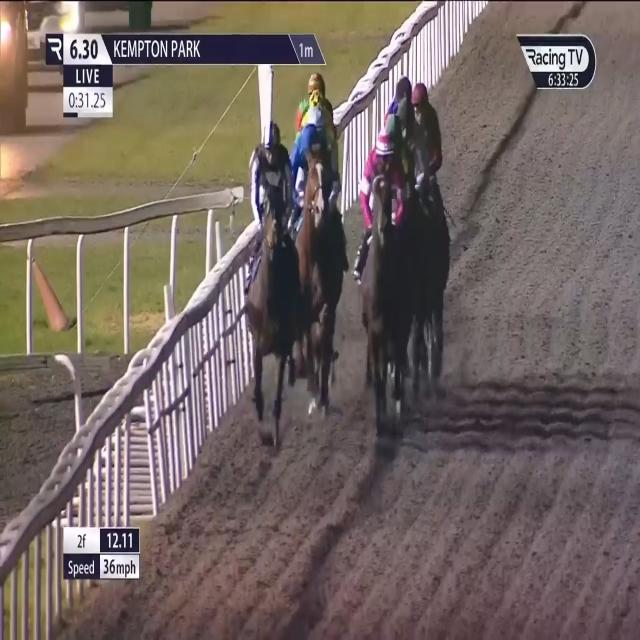horses-racing: (248, 121, 298, 419), (288, 123, 338, 406), (364, 122, 405, 406), (392, 95, 424, 189), (413, 81, 442, 175), (299, 107, 335, 141), (307, 84, 330, 126), (386, 106, 402, 154), (392, 70, 410, 108), (304, 70, 328, 94)
